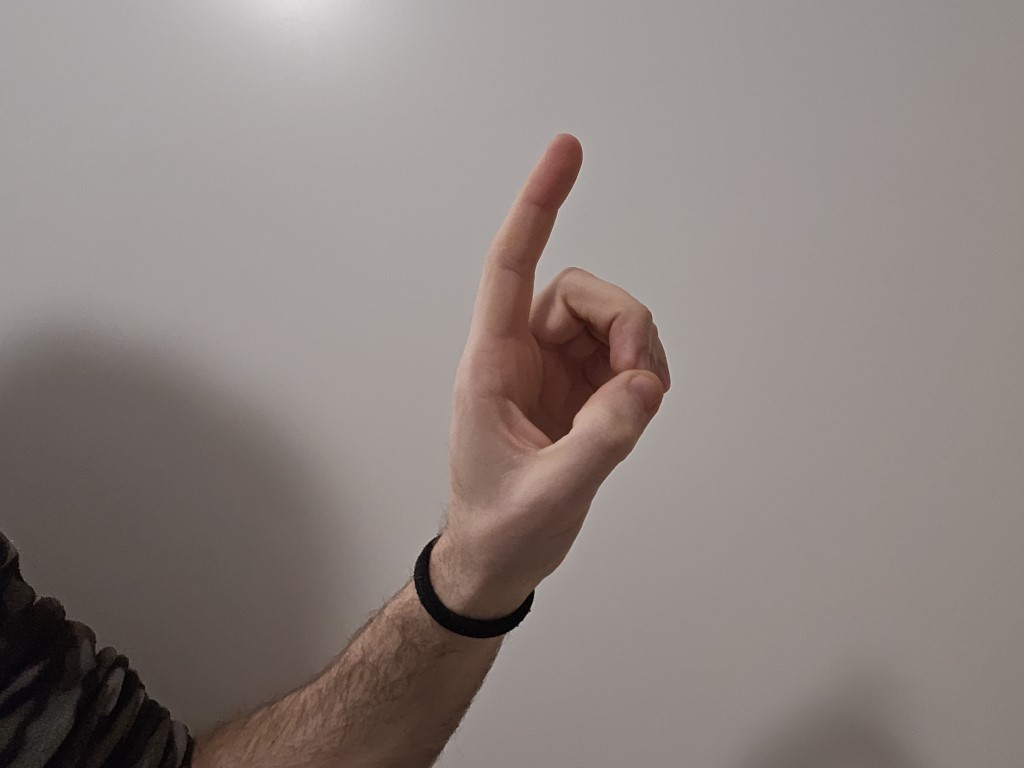d: (413, 112, 689, 592)
